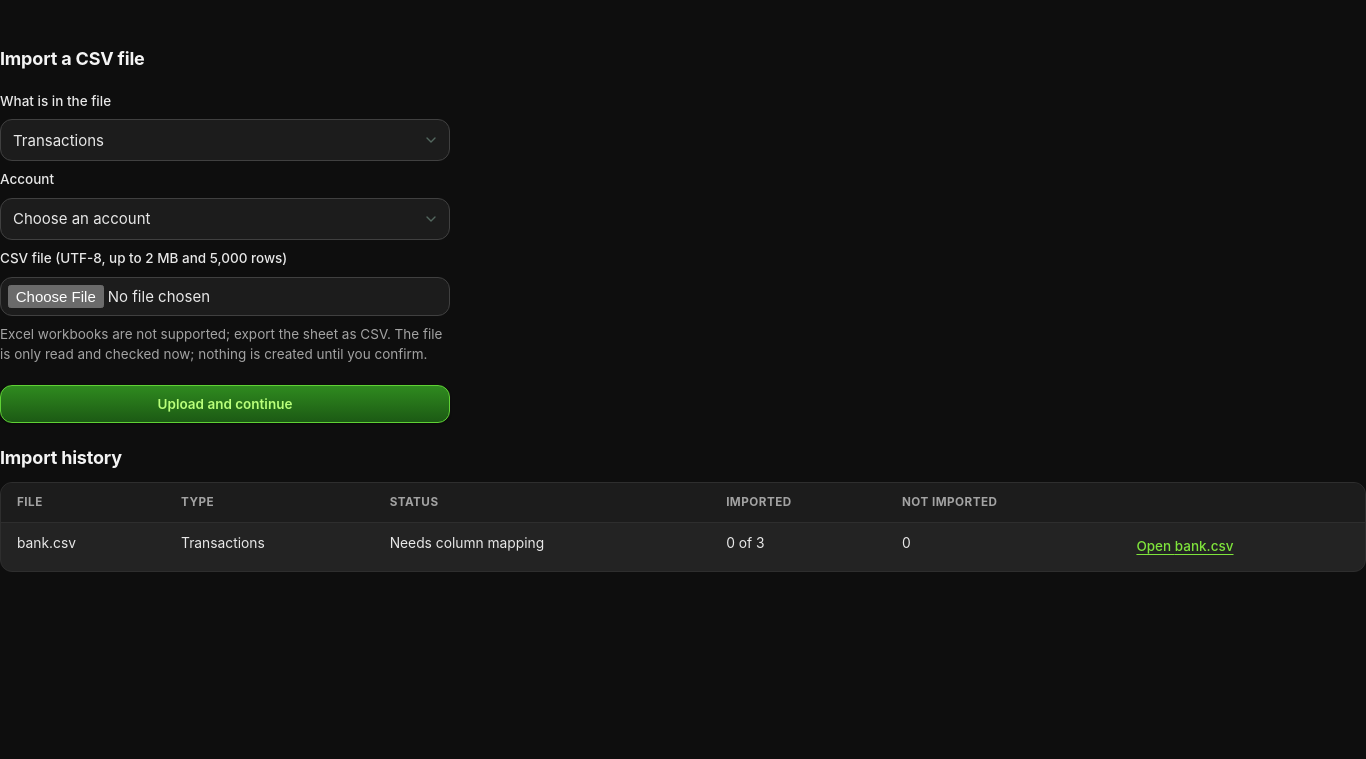
import preview, history and progress (mocked fetch) › shows the first rows of the file beside the column mapping before anything is imported
Click the button "Open bank.csv".
click(1185, 547)  # box [1132,533,1238,560]
(page scrolled)
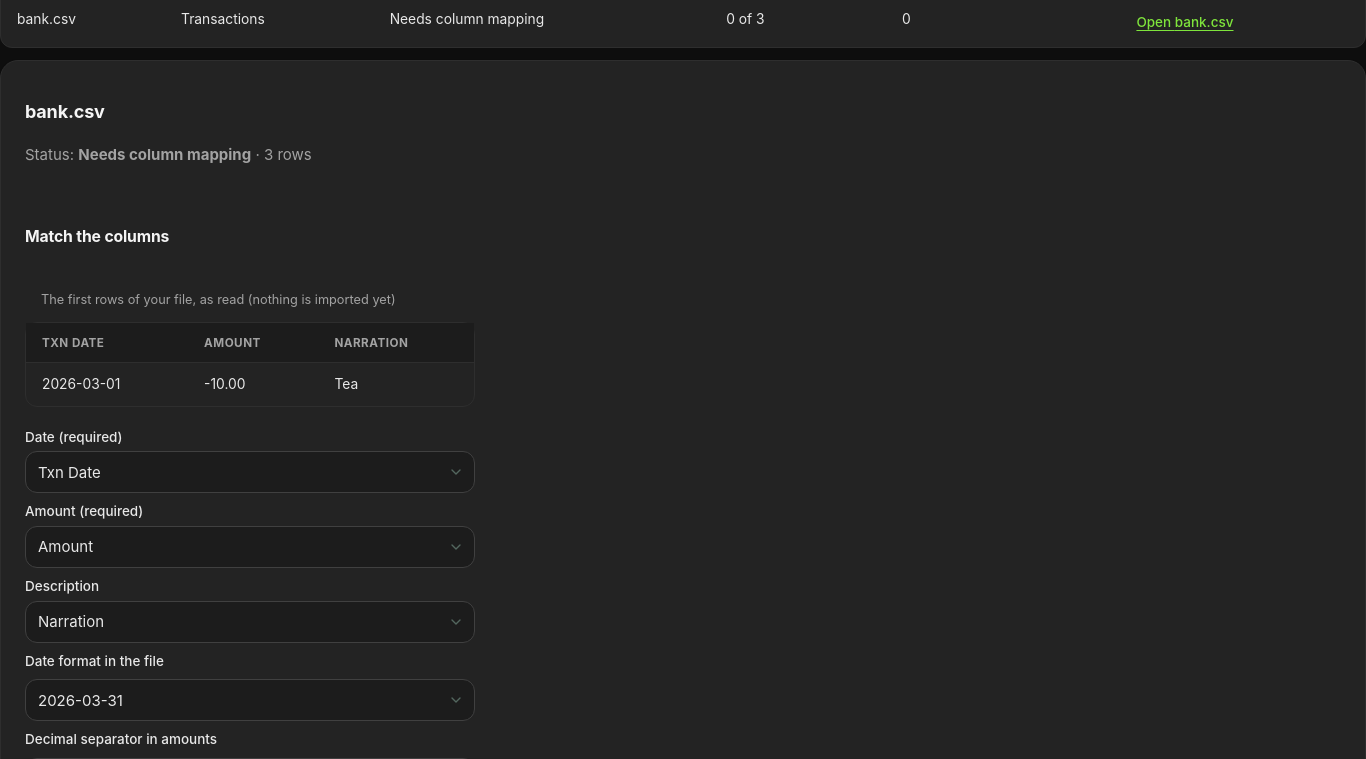
Expected: the text "Tea" is shown, [318,363,474,406]
Expected: the text "-10.00" is shown, [188,363,318,406]
